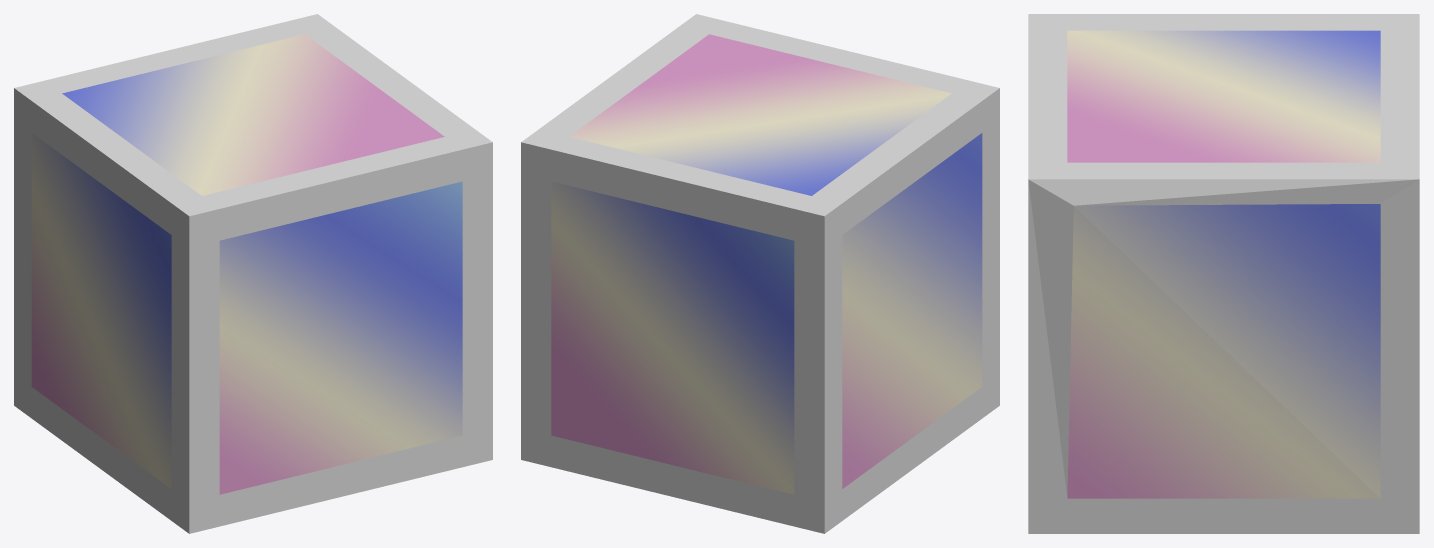
The model's file is Wall.fbx.
3 renders of one model, left to right at view 1: azimuth 30°, elevation 25°; view 2: azimuth 150°, elevation 25°; view 3: azimuth 270°, elevation 25°, orthographic. The views are drawn at different scales.
Visible parts, largest first — view 1: 立方体; view 2: 立方体; view 3: 立方体.
Part boxes in pixels (x1=…): 立方体: x1=14, y1=14, x2=492, y2=533; 立方体: x1=521, y1=14, x2=999, y2=533; 立方体: x1=1028, y1=14, x2=1419, y2=533.
Size of the model in its own units: 102 by 100 by 100.
1 material, 1 textured.
